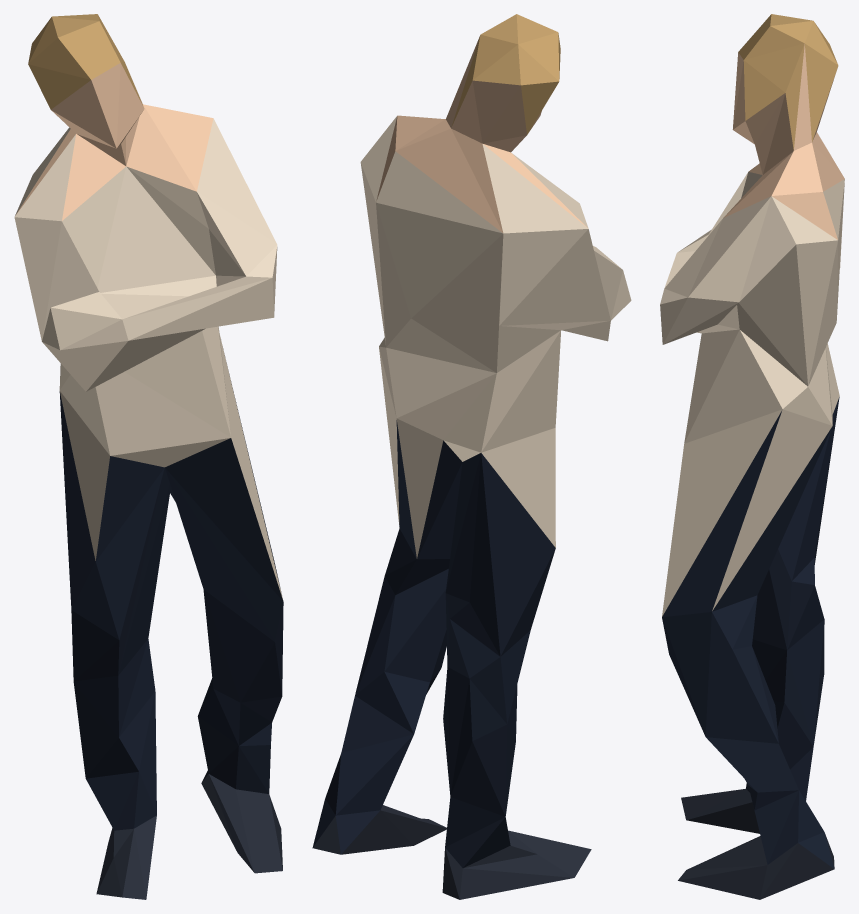
The model's file is walker-28.glb.
3 views of the same model, side by side, from view 1: azimuth 30°, elevation 25°; view 2: azimuth 150°, elevation 25°; view 3: azimuth 270°, elevation 25° (orthographic). The views are drawn at different scales.
Visible parts, largest first — view 1: Man07; view 2: Man07; view 3: Man07.
Part boxes in pixels (box(x1,y1,x2,y2)): Man07: box(14, 14, 283, 899); Man07: box(312, 14, 631, 899); Man07: box(660, 14, 844, 899).
Size of the model in its own units: 0.5058 by 1.61 by 0.3408.
